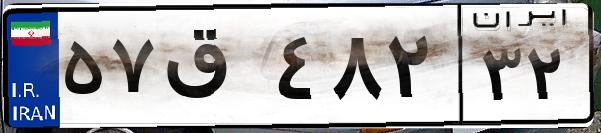2: (385, 28, 445, 110), (525, 38, 570, 115)
3: (475, 38, 525, 113)
4: (270, 28, 330, 110)
5: (57, 26, 110, 100)
7: (110, 28, 158, 98)
8: (330, 28, 385, 110)
ق: (158, 20, 270, 120)
